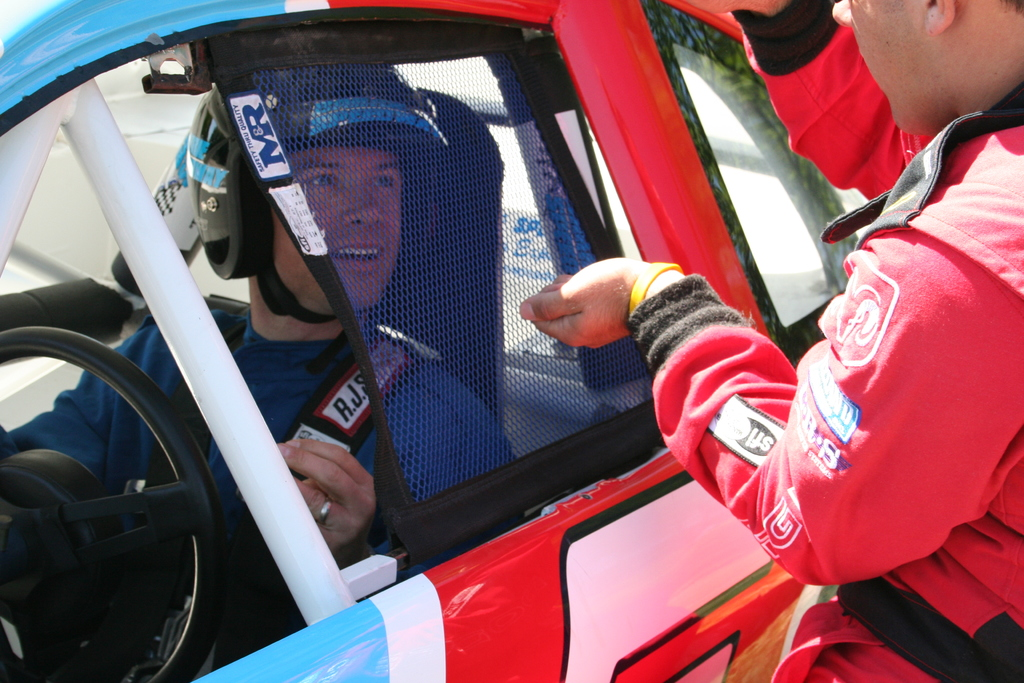Person: (519, 0, 1024, 683), (0, 65, 517, 576)
